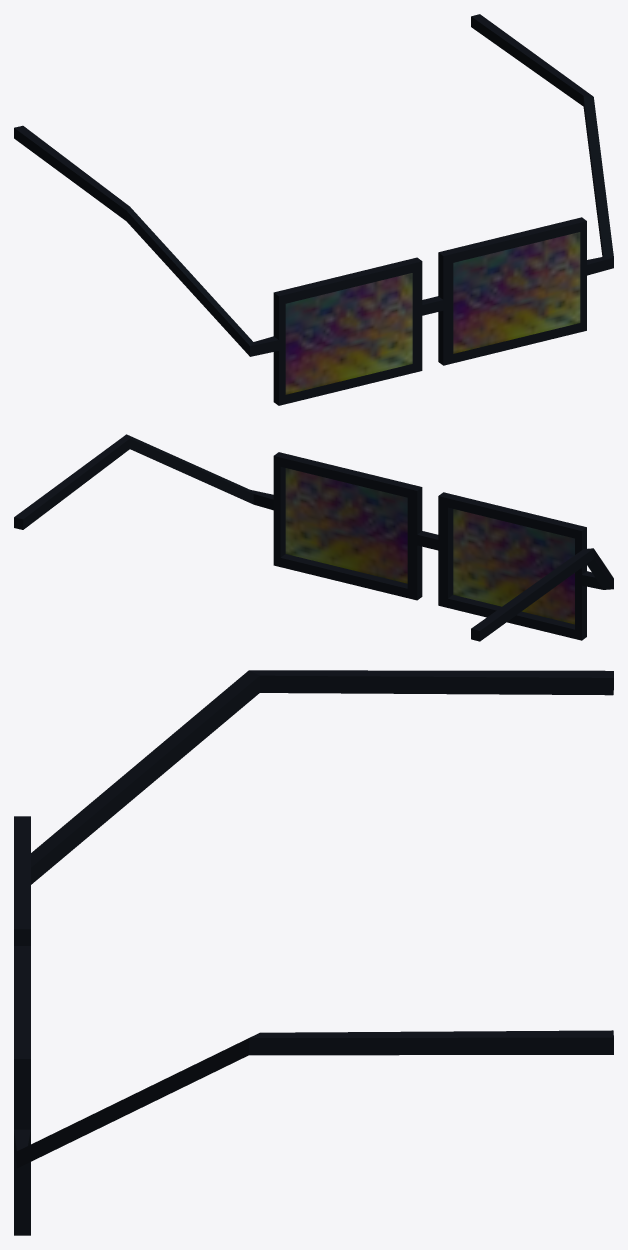
File: boxyglasses.fbx
3 views of the same model, one above another, from view 1: azimuth 30°, elevation 25°; view 2: azimuth 150°, elevation 25°; view 3: azimuth 270°, elevation 25° (orthographic). The views are drawn at different scales.
Parts seen in each view (by area): view 1: boxyglasses; view 2: boxyglasses; view 3: boxyglasses.
Part boxes in pixels (left/top/right/bottom): boxyglasses: left=14, top=14, right=613, bottom=405; boxyglasses: left=14, top=434, right=613, bottom=641; boxyglasses: left=14, top=670, right=613, bottom=1235.
Size of the model in its own units: 24.99 by 8.24 by 17.23.
